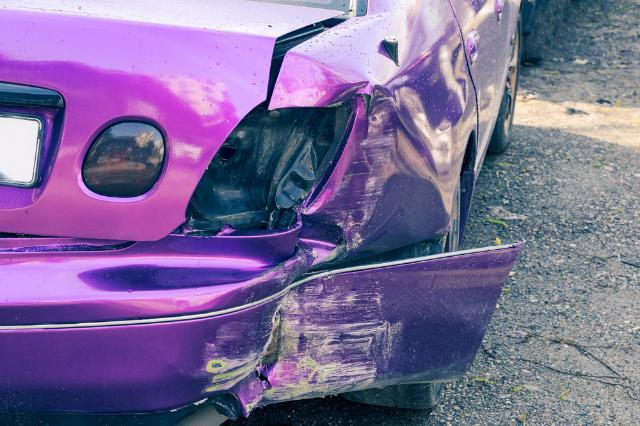crack: (254, 371, 273, 390)
dislocated part: (0, 0, 356, 240), (179, 228, 522, 426)
no part: (176, 101, 364, 234)
scratch: (200, 279, 396, 413), (308, 87, 395, 248)
